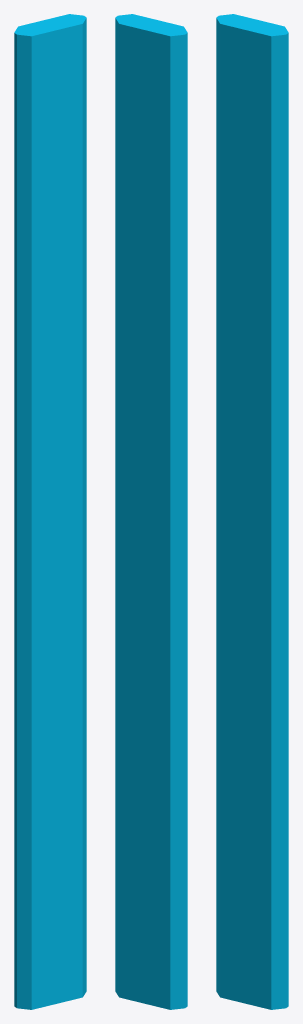
Rendered from RPN_2.gltf.
3 views of the same model, side by side, from view 1: azimuth 30°, elevation 25°; view 2: azimuth 150°, elevation 25°; view 3: azimuth 330°, elevation 25° (orthographic).
Visible parts, largest first — view 1: __________________________; view 2: __________________________; view 3: __________________________.
Boxes of the visible parts, x1=… form: __________________________: x1=14, y1=14, x2=86, y2=1009; __________________________: x1=115, y1=14, x2=187, y2=1009; __________________________: x1=216, y1=14, x2=288, y2=1009.
Bounding box in the file's own units: 0.015 × 0.2 × 0.005.
